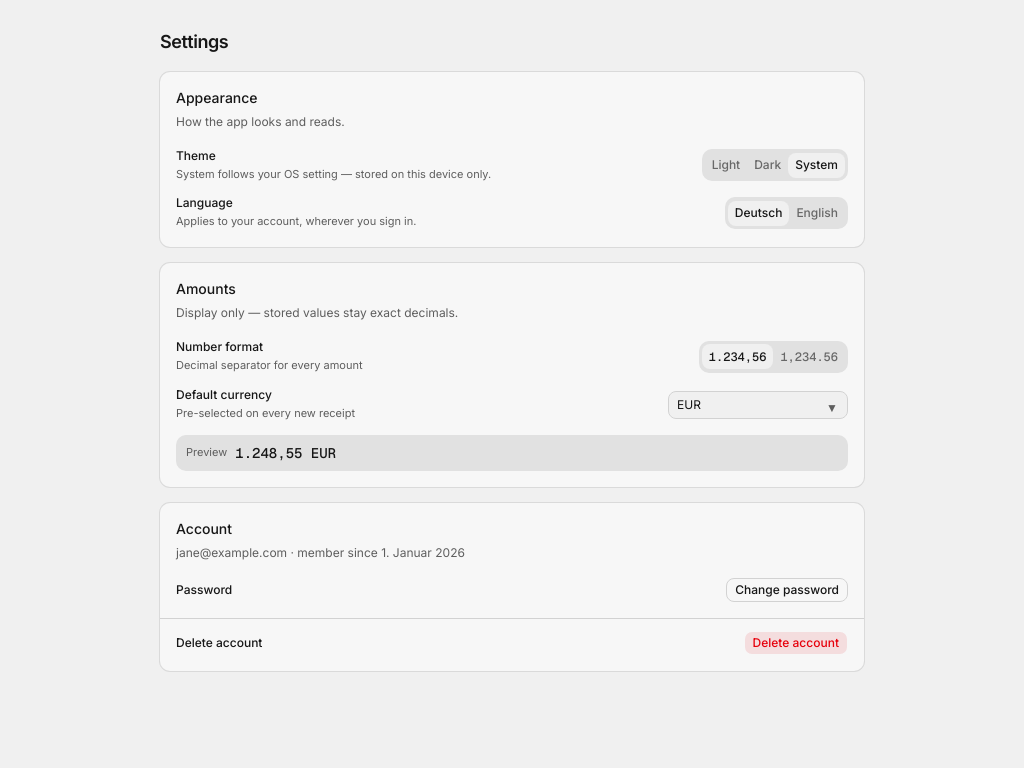
SettingsPage › shows an inline error when the delete-account password is wrong
Click the button "Delete account" at [796, 643], box [744,631,848,655]
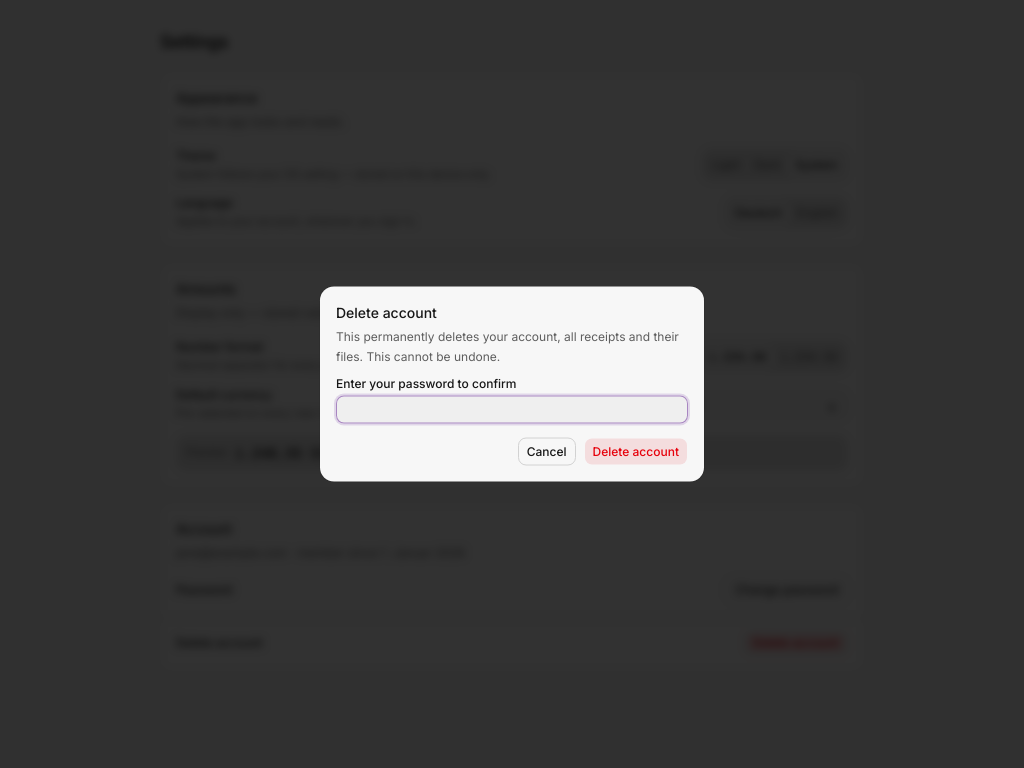
Type "wrong-password" into the password field labelled "Enter your password to confirm" at [512, 410], box [336,396,688,424]
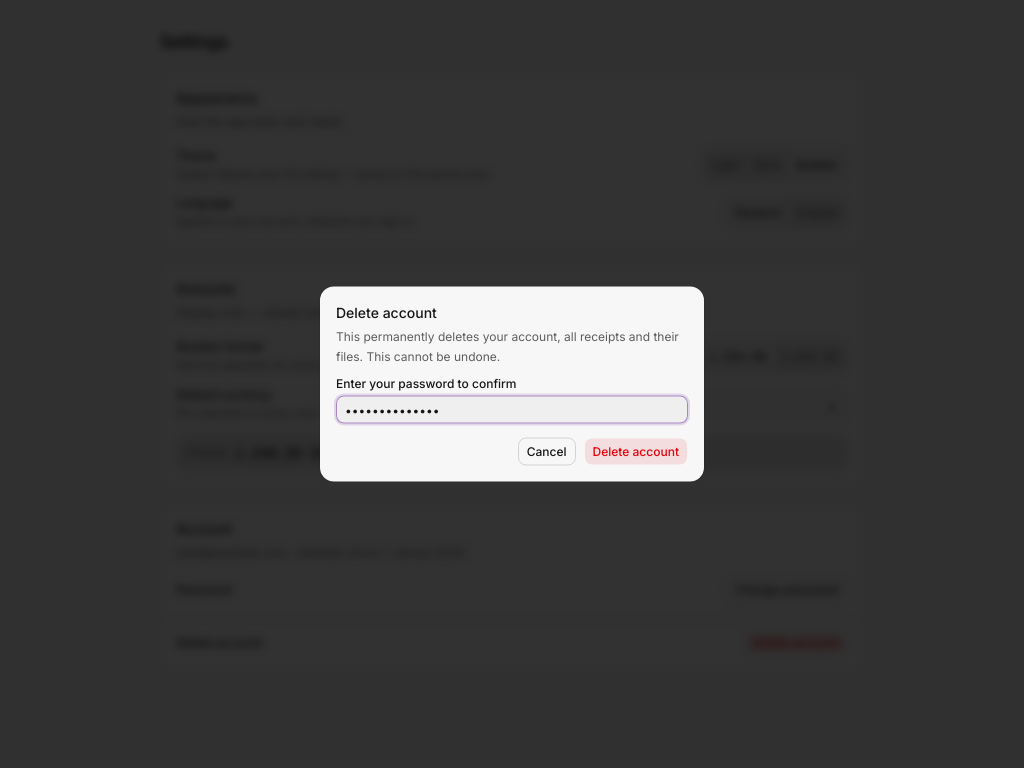
Click the button "Delete account" at [636, 452], box [584,438,688,466]
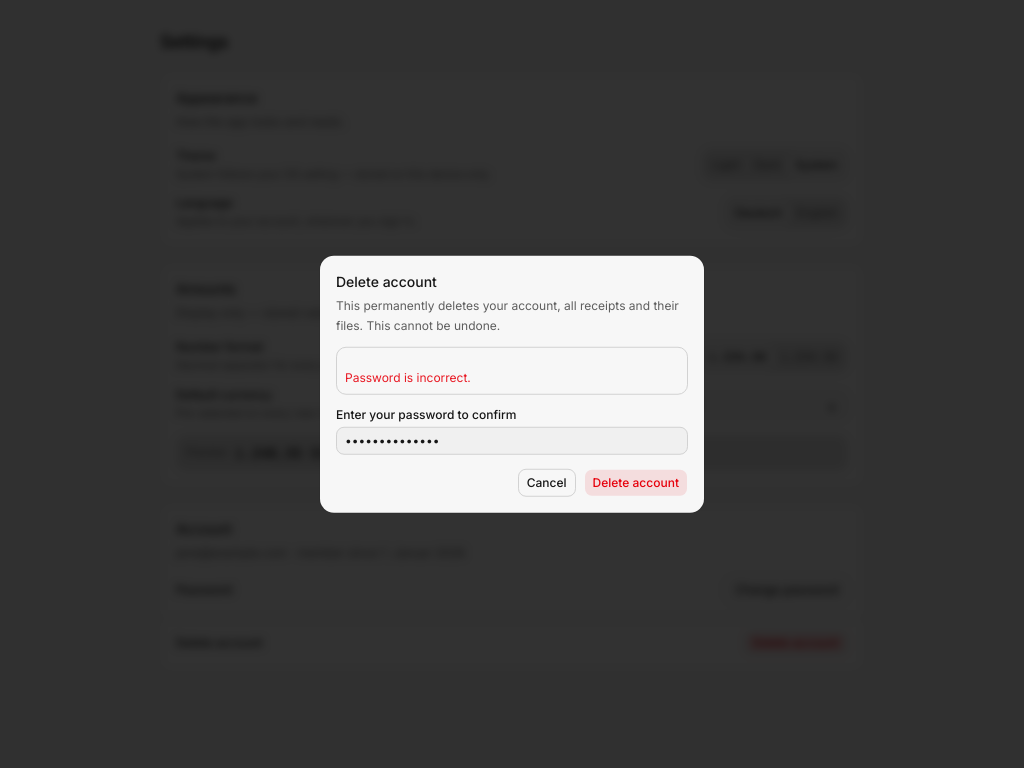
Result: the dialog is shown at [320,256,704,512]
Result: the text "Password is incorrect." is shown at [345,370,471,385]
